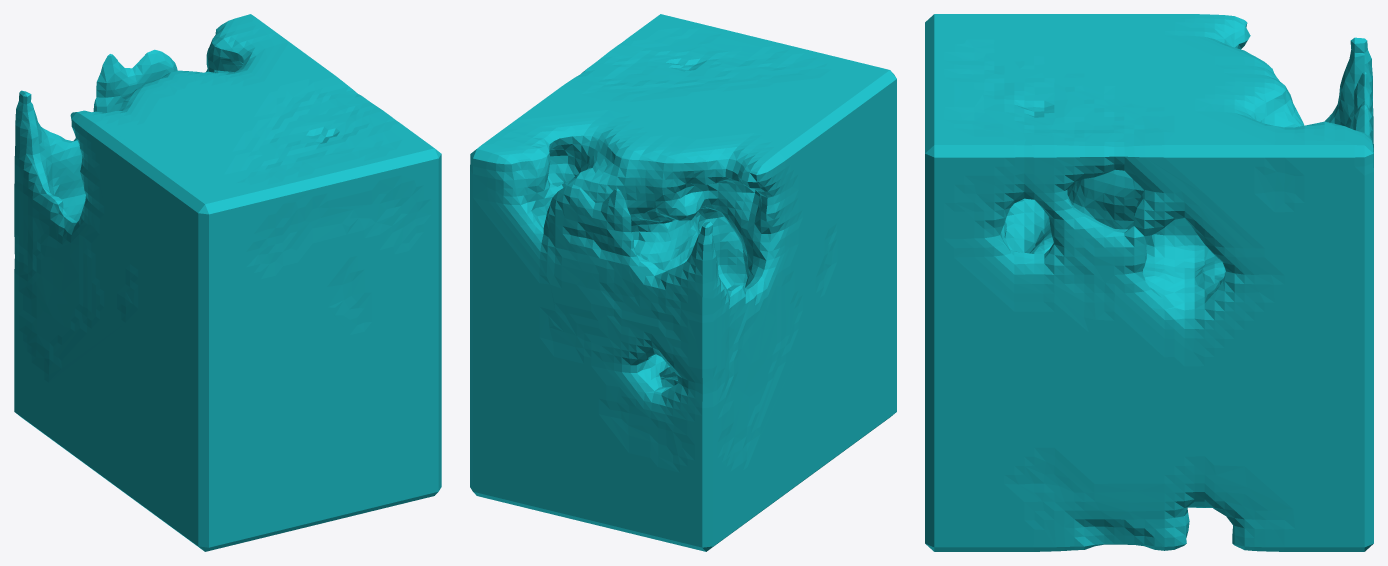
3 renders of one model, left to right at view 1: azimuth 30°, elevation 25°; view 2: azimuth 150°, elevation 25°; view 3: azimuth 270°, elevation 25°, orthographic. The views are drawn at different scales.
Parts seen in each view (by area): view 1: Liquid_Domain; view 2: Liquid_Domain; view 3: Liquid_Domain.
Part boxes in pixels (x1,y1,x2,y2): Liquid_Domain: (14,14,441,551); Liquid_Domain: (470,14,896,551); Liquid_Domain: (925,14,1373,551).
Size of the model in its own units: 79.09 by 108 by 108.
